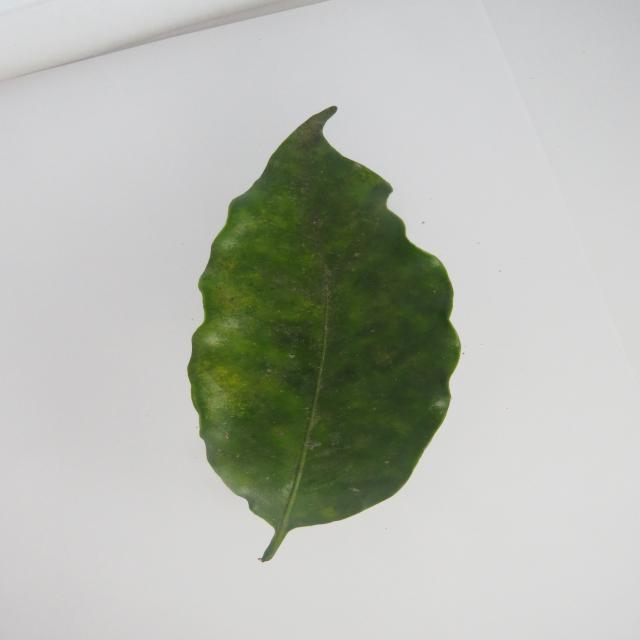DeficienciaNutricional-Calcio: (188, 106, 460, 561)
